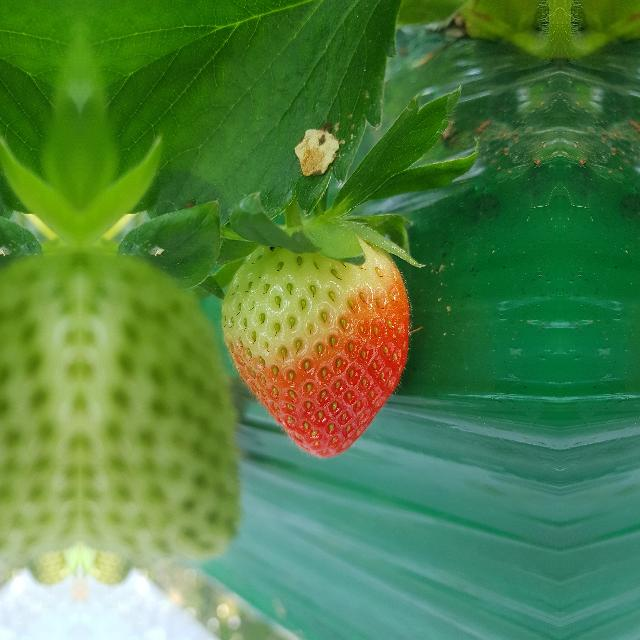Health_75: (221, 232, 411, 458)
